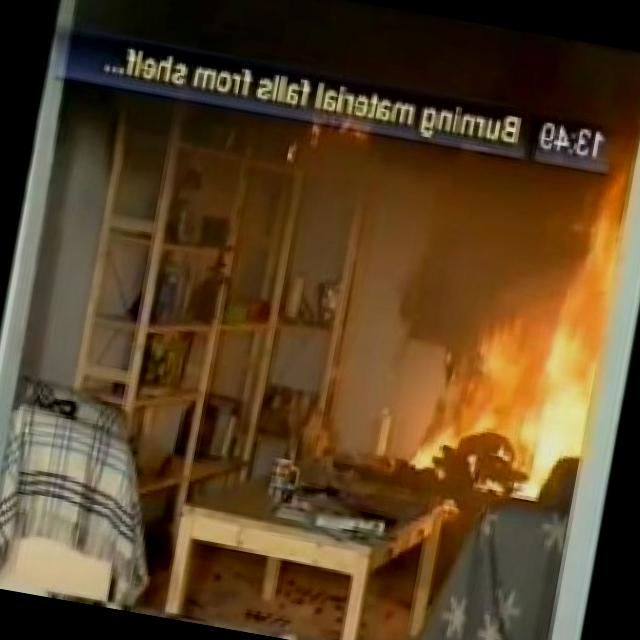fire: (452, 166, 630, 456)
